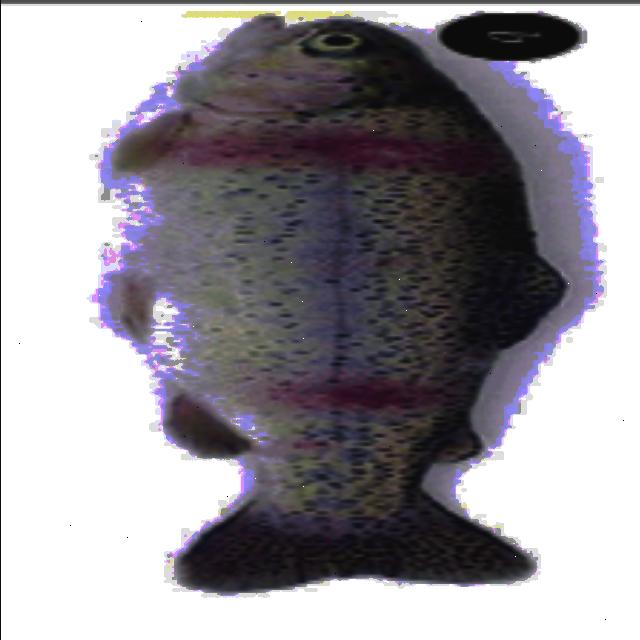Edwardsiella Ictaluri -Bacterial Red Disease-: (123, 17, 563, 589)
